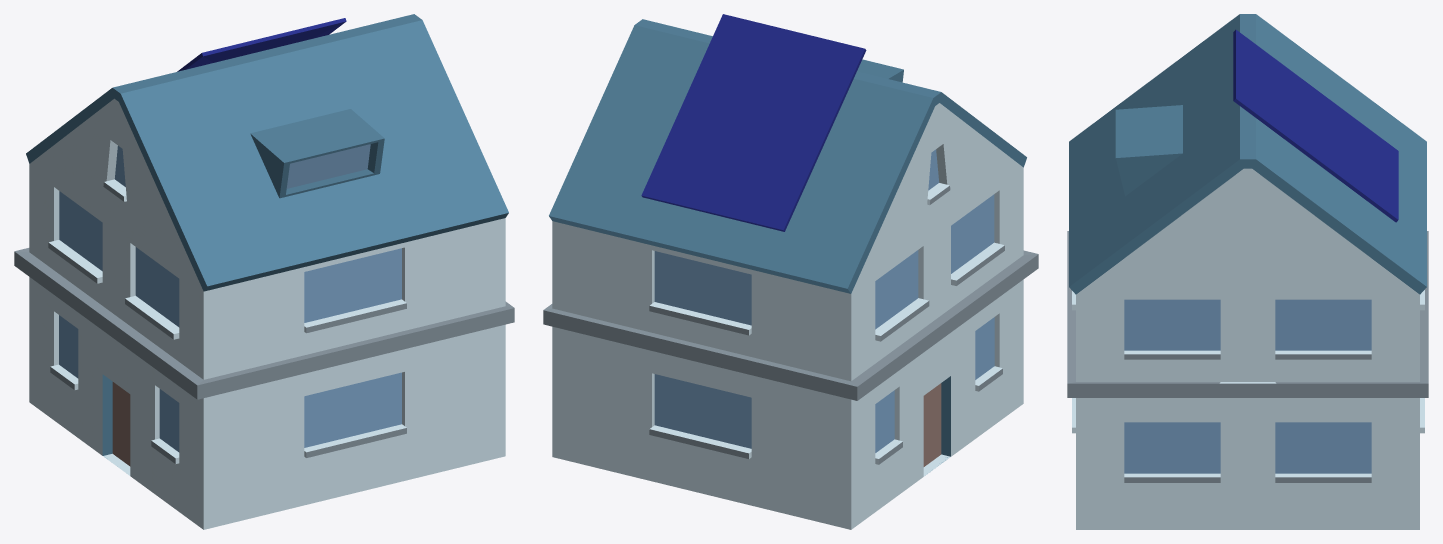
Rendered from rumah.glb.
3 views of the same model, side by side, from view 1: azimuth 30°, elevation 25°; view 2: azimuth 150°, elevation 25°; view 3: azimuth 270°, elevation 25° (orthographic).
Parts seen in each view (by area): view 1: Cube; view 2: Cube; view 3: Cube.
Boxes of the visible parts, x1,y1,x2,y2 form: Cube: (14,14,514,529); Cube: (543,14,1038,529); Cube: (1067,14,1428,529).
Size of the model in its own units: 1.49 by 1.79 by 1.49.
